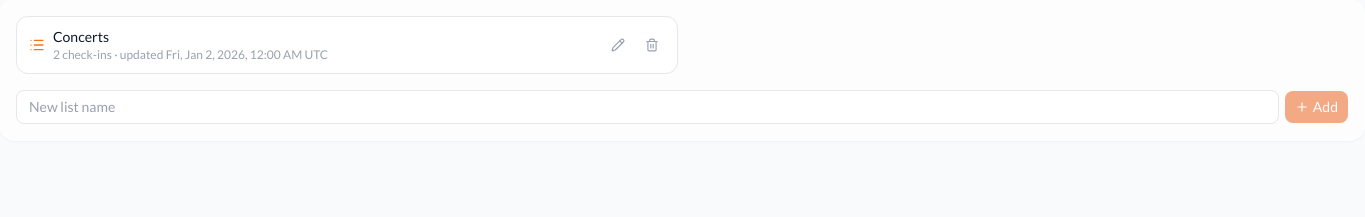
Test: CheckinListsSection › opens a list detail with the table rows and a back button
This screenshot has width=1365, height=217.
Click the button with aria-label "Open Concerts": point(325, 45) [53,27,597,63]
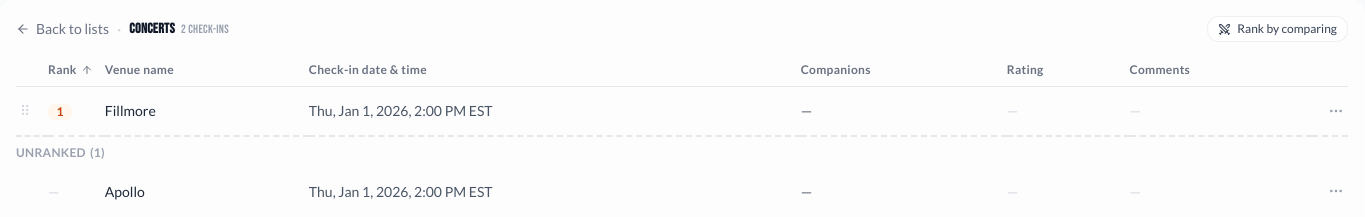
expect the button "Back to lists" is shown: met
expect the link "Fillmore" is shown: met, box [105,102,156,119]
expect the link "Apollo" is shown: met, box [105,182,145,200]
Click the button "Back to lists": point(62, 29) [16,19,109,39]
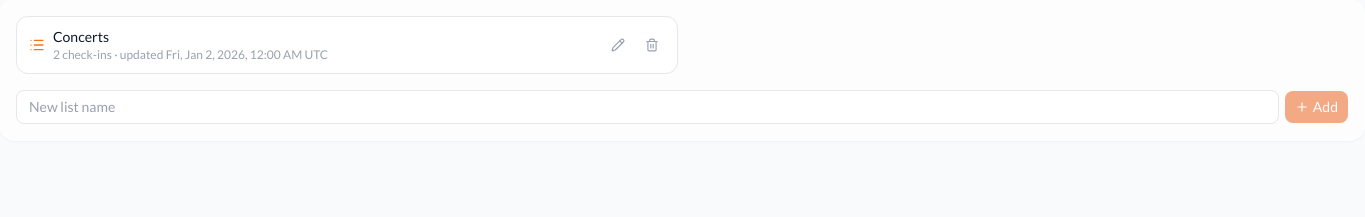
expect the link "Apollo" is gone: met
